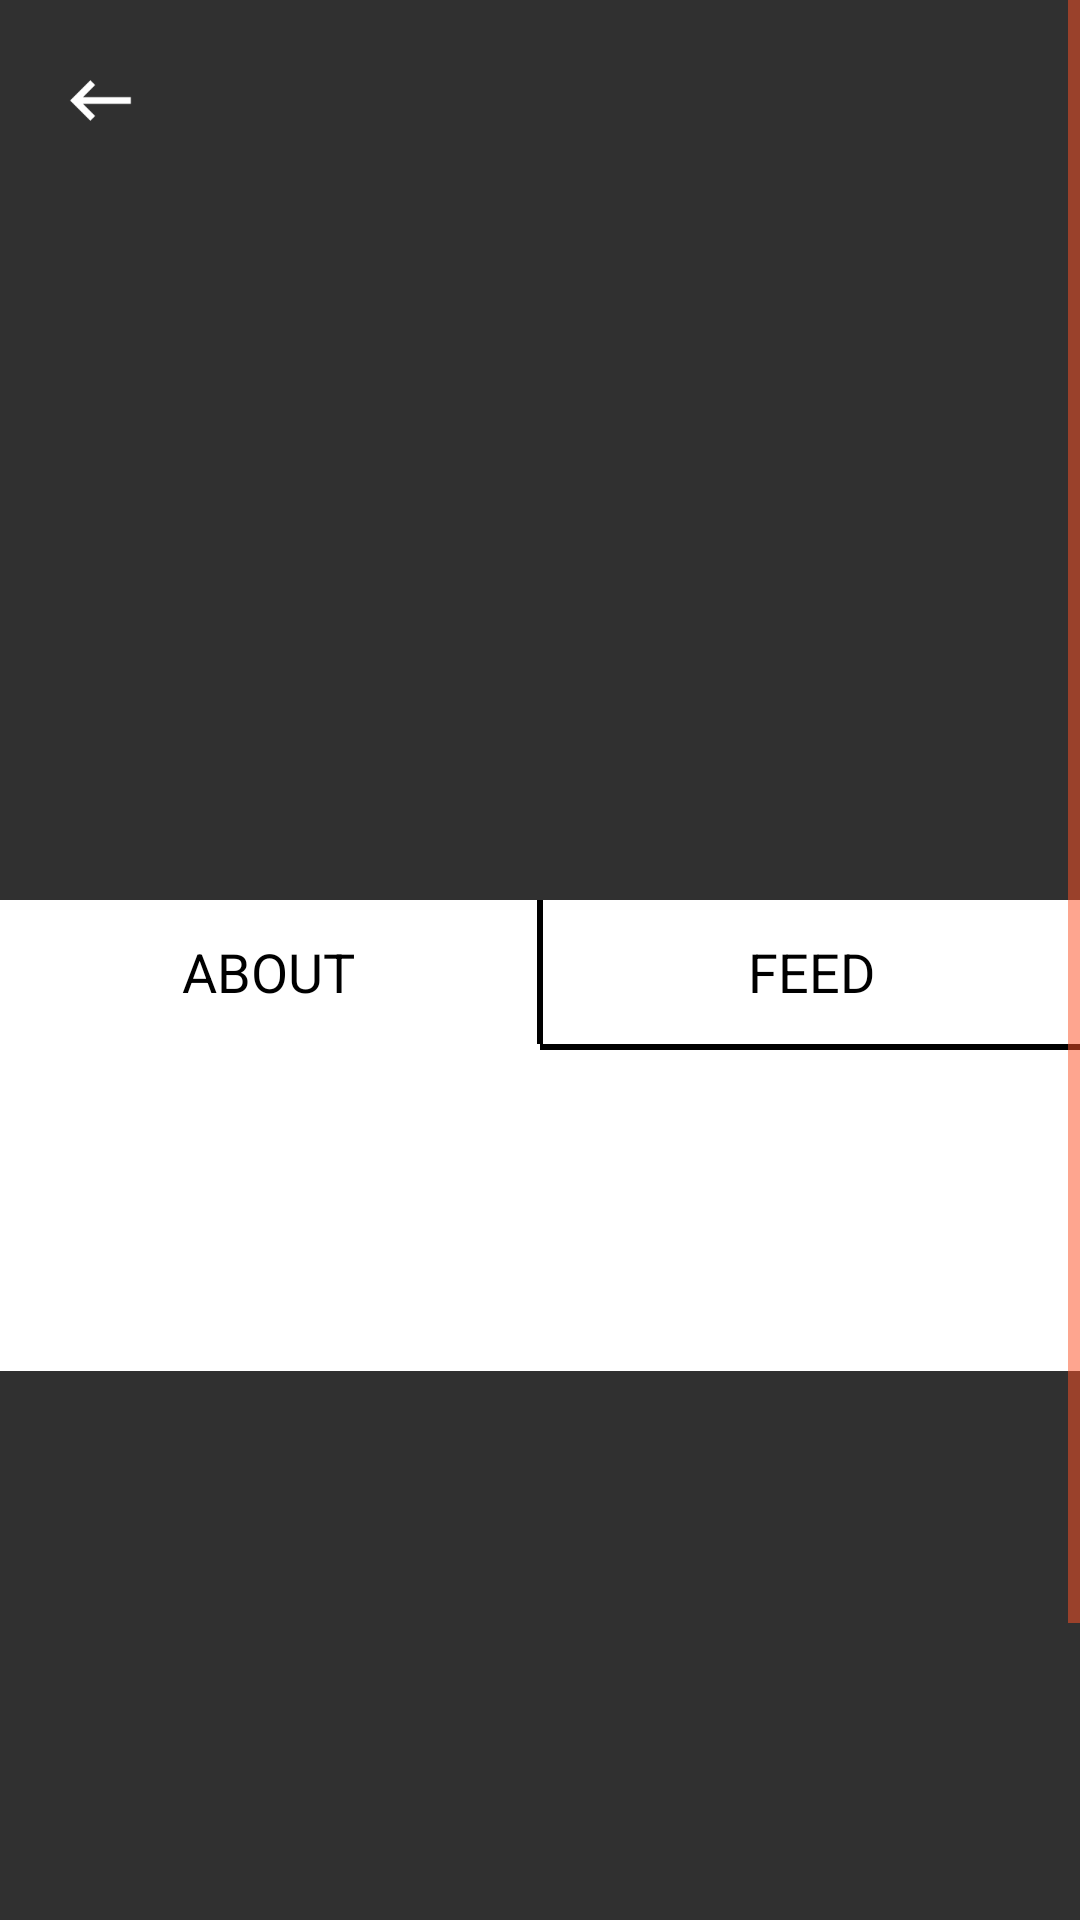

Point at icon controls on the screen. Image size 1080w x 1920h, points as point (x, y).
keyboard backspace: point (100, 100)
